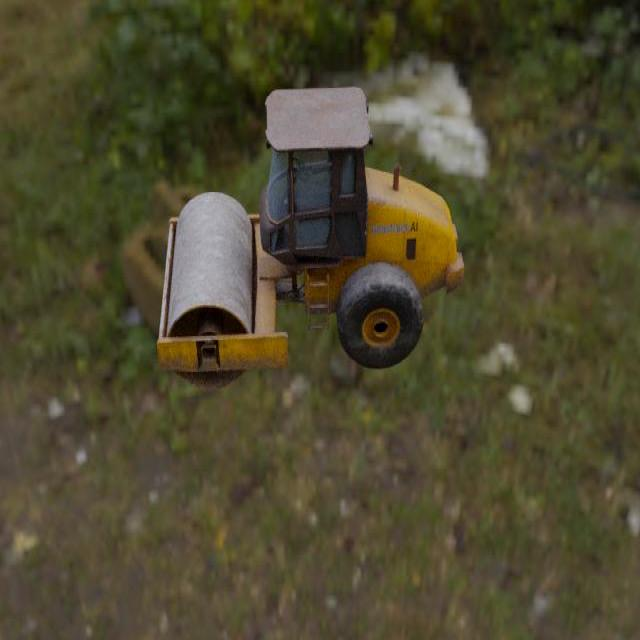Roller: (156, 85, 464, 391)
